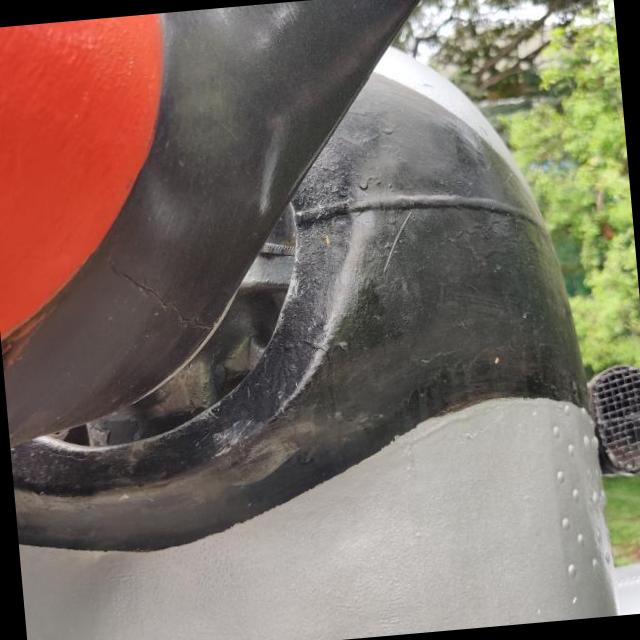Crack: (103, 260, 212, 332)
